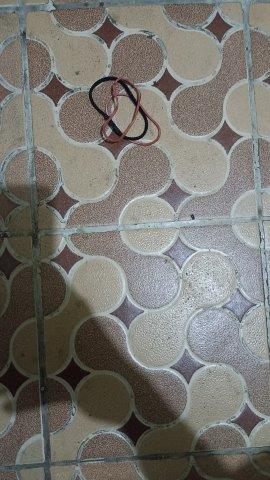karet: (89, 77, 163, 147)
